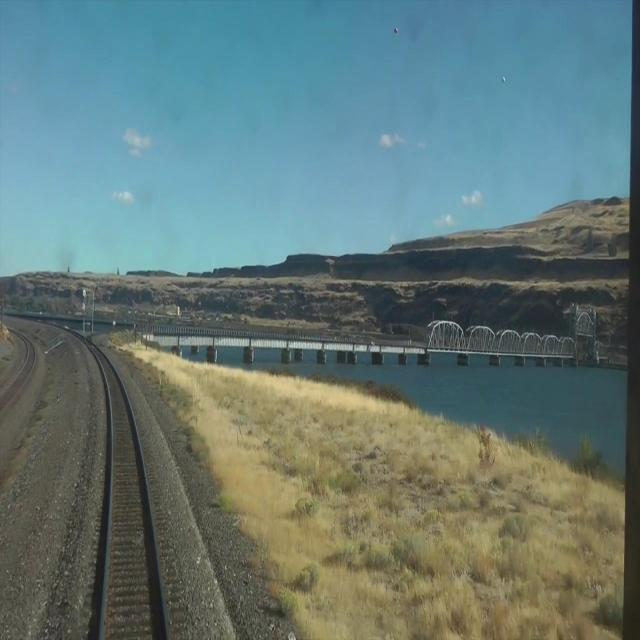rail-track: (96, 350, 164, 639), (0, 341, 34, 410)
